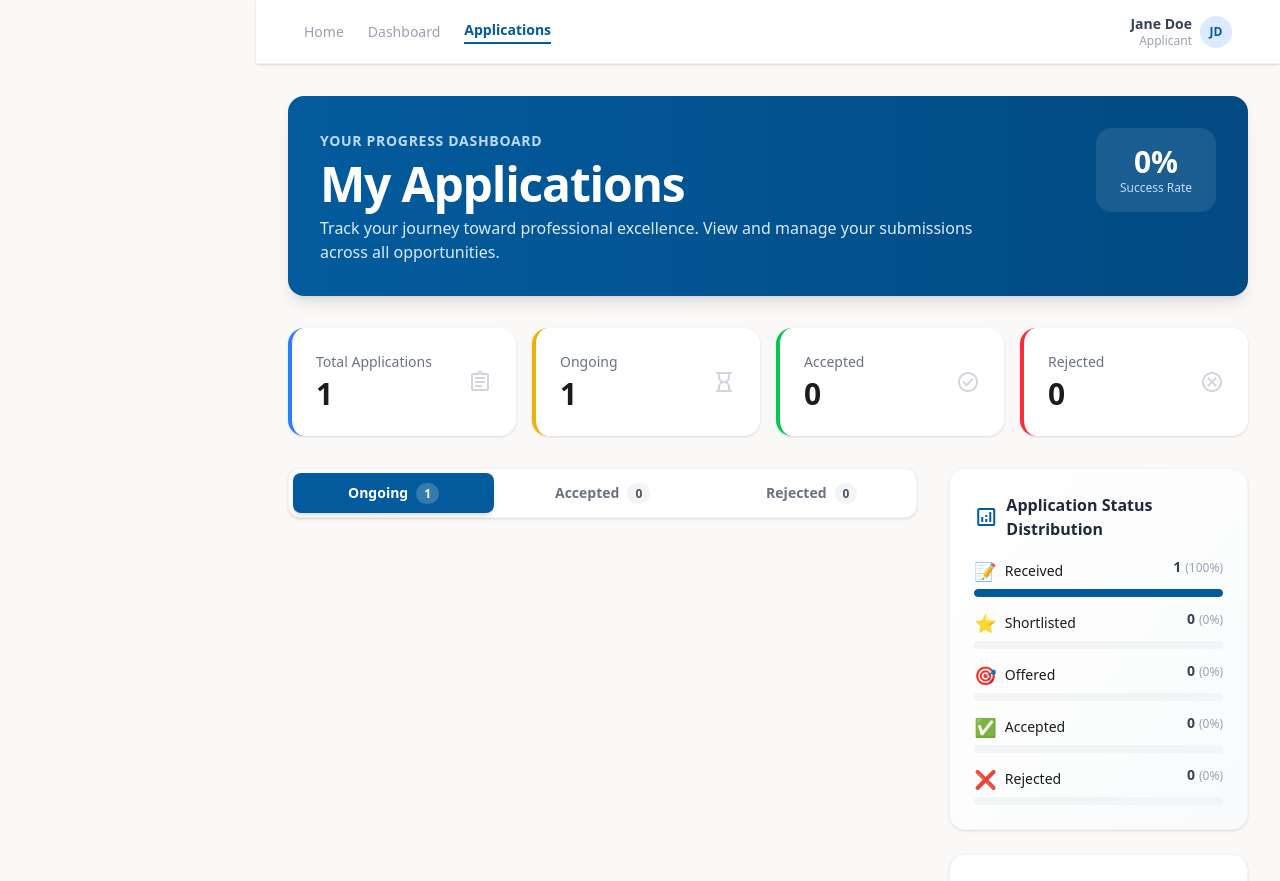
Test: MyApplications › shows empty state message for Accepted tab with no accepted applications
This screenshot has width=1280, height=881.
Click Accepted tab (select the button explicitly)
Click the button "Accepted0" at point(603, 493), box [502, 473, 703, 513]
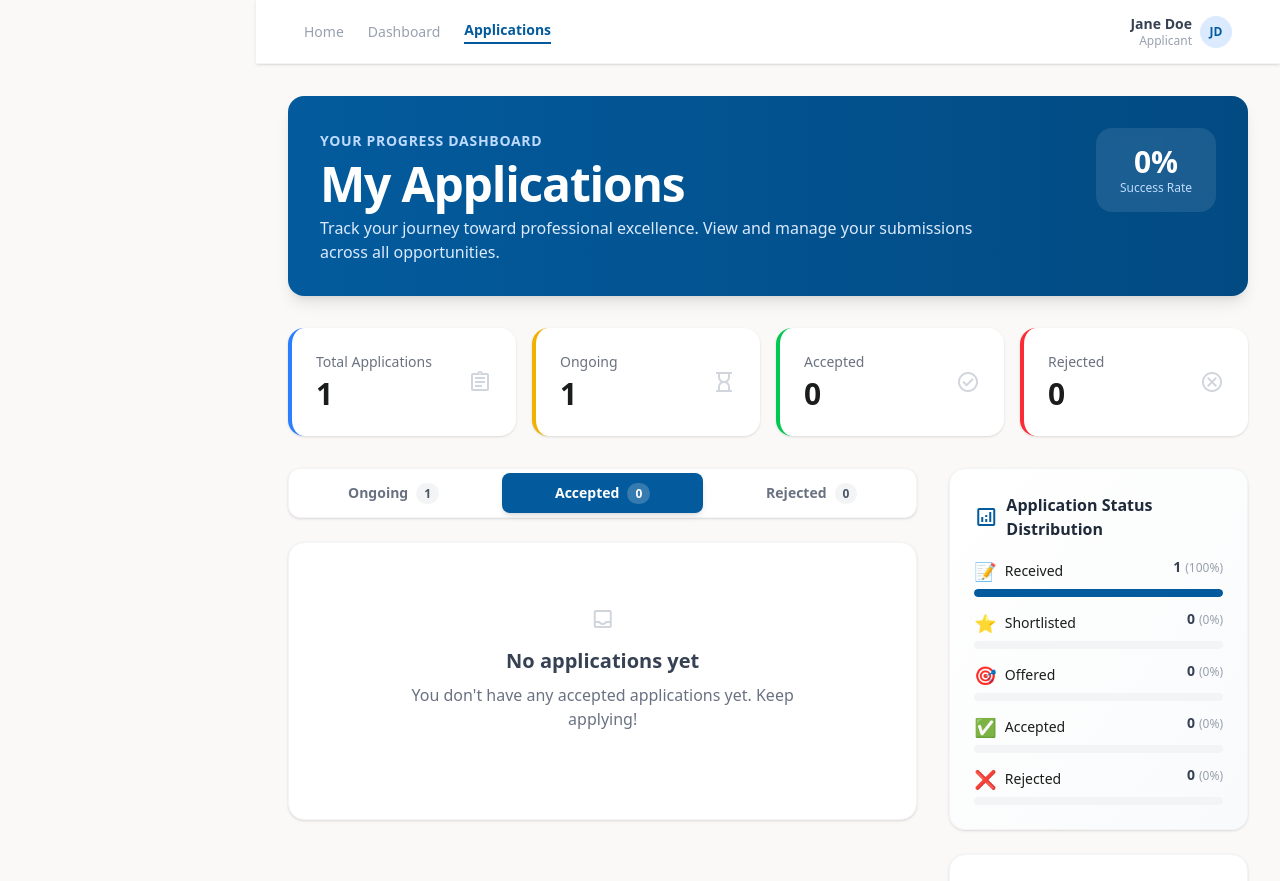
Now the text "You don't have any accepted applications yet. Keep applying!" is shown, box [379, 683, 827, 731]
